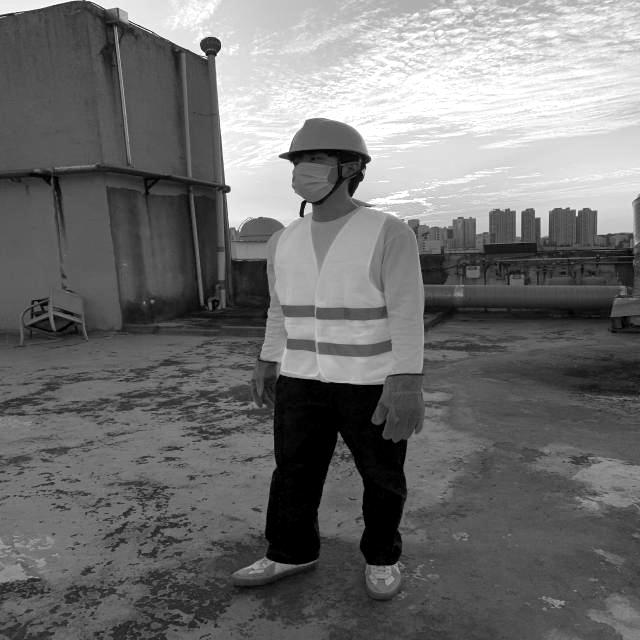No-Boots: (232, 553, 325, 589), (363, 560, 405, 600)
Vest: (276, 210, 401, 385)
